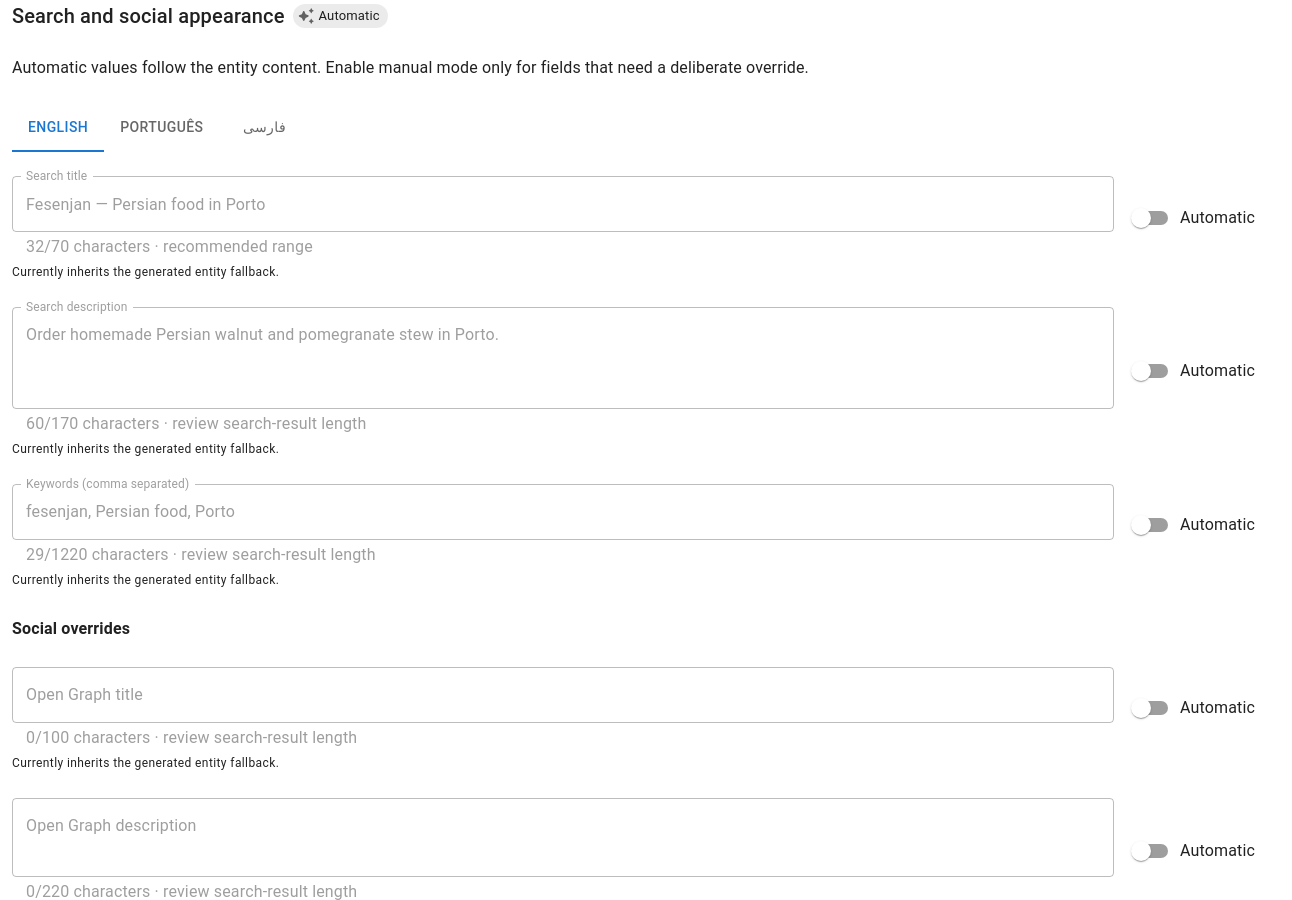
Scenario: SEO fields › takes manual ownership of one field without changing the others
The width and height of the screenshot is (1292, 900).
expect the field labelled "Search title" is disabled: met, box x1=12 y1=176 x2=1114 y2=232
Click the 1st switch labelled "Automatic".
click(1193, 218)  # box x1=1131 y1=208 x2=1255 y2=228
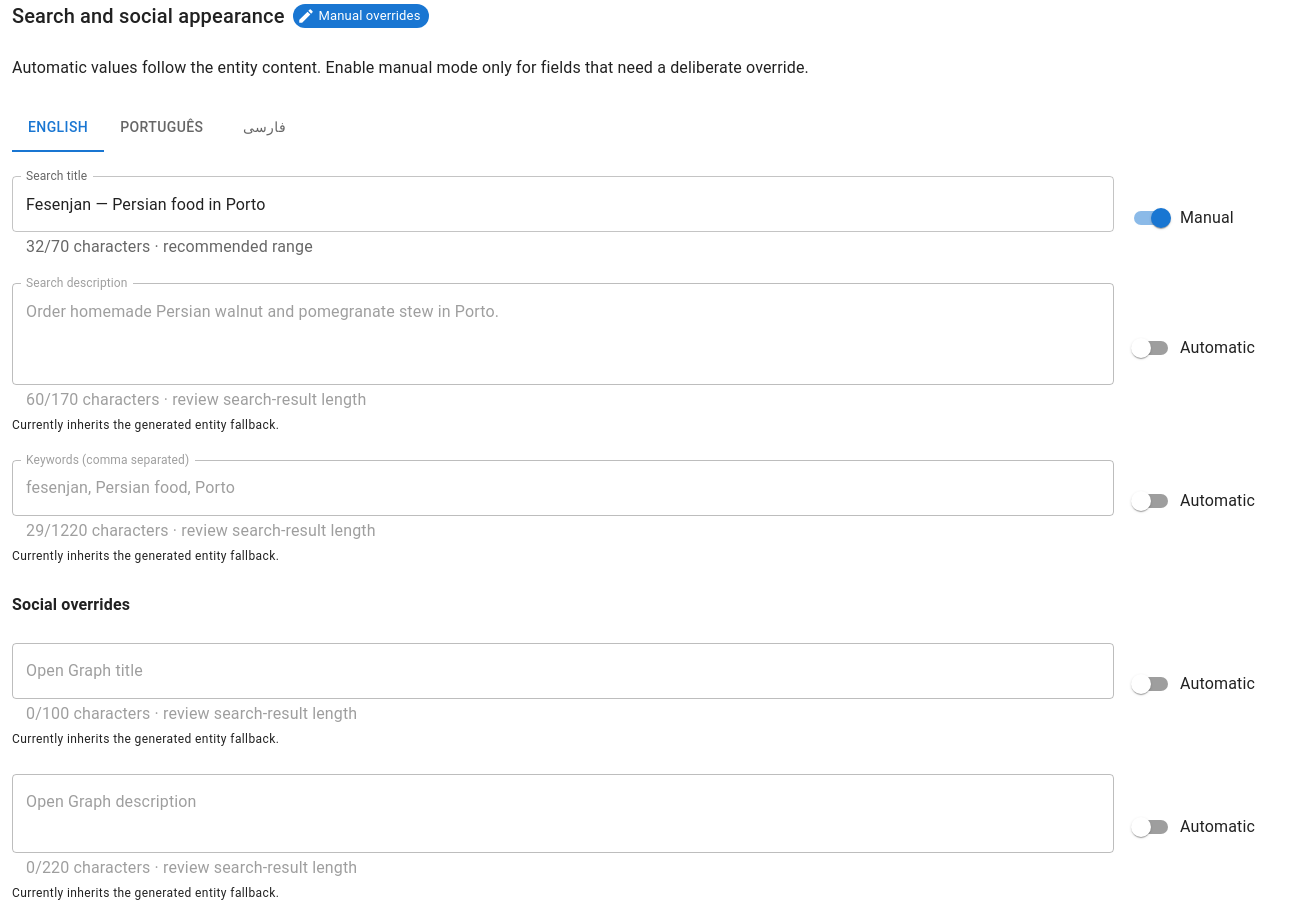
expect the 1st text "Automatic" is shown: met, box x1=1180 y1=336 x2=1255 y2=360
expect the field labelled "Search title" is enabled: met, box x1=12 y1=176 x2=1114 y2=232
expect the text "Manual overrides" is shown: met, box x1=310 y1=6 x2=428 y2=26
